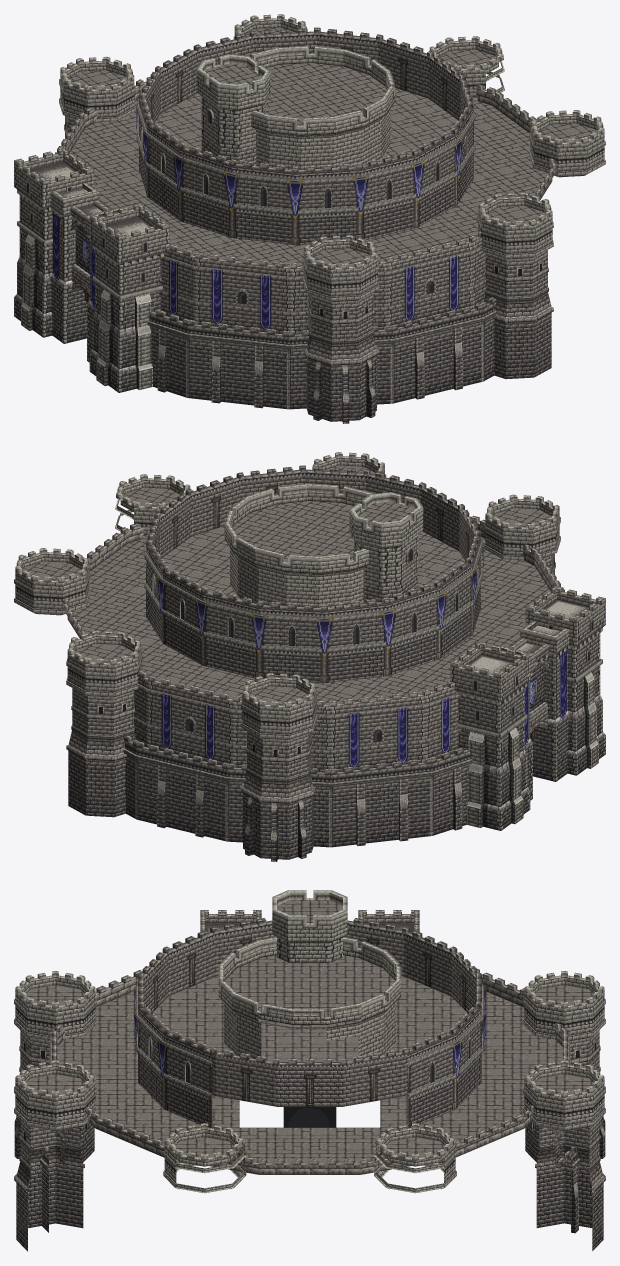
The model's file is ObjMD_Theater_A.FBX.
The picture shows the model from 3 angles, top to bottom: view 1: azimuth 30°, elevation 25°; view 2: azimuth 150°, elevation 25°; view 3: azimuth 270°, elevation 25°; orthographic projection. The views are drawn at different scales.
Parts seen in each view (by area): view 1: ObjMD_Theater_A; view 2: ObjMD_Theater_A; view 3: ObjMD_Theater_A.
Boxes of the visible parts, <box> form: ObjMD_Theater_A: <box>14,14,605,423</box>; ObjMD_Theater_A: <box>14,452,605,861</box>; ObjMD_Theater_A: <box>14,890,605,1251</box>.
Size of the model in its own units: 3362 by 1600 by 3373.
